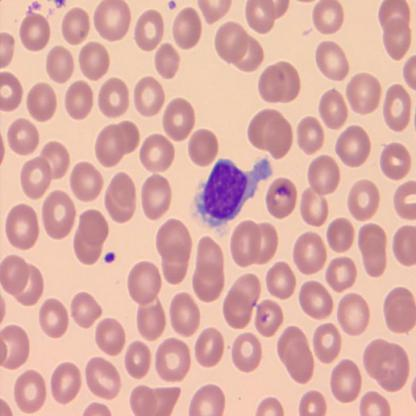Lymphocyte: (194, 156, 272, 238)
